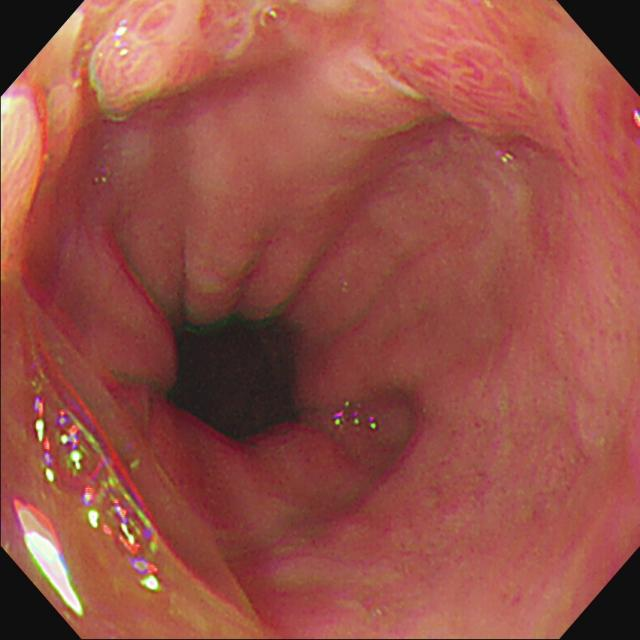A: (397, 2, 564, 144), (90, 7, 245, 127)
E: (173, 324, 301, 438)
U: (84, 403, 161, 594), (14, 501, 85, 620), (36, 397, 83, 486), (114, 26, 131, 60)
